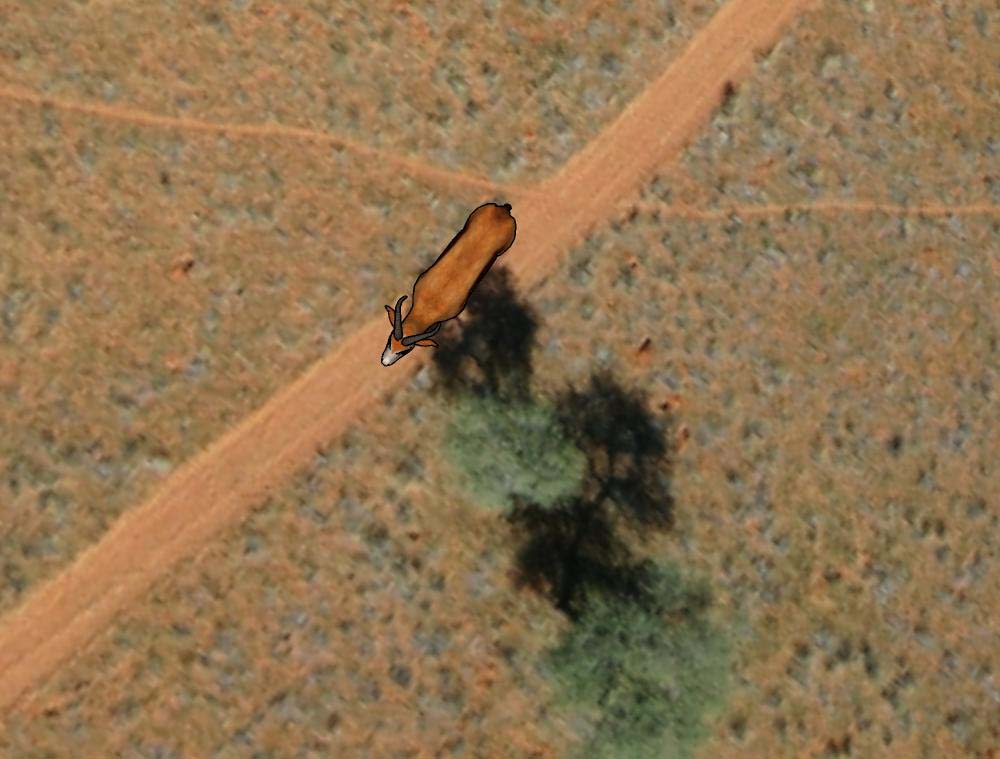springbok: (373, 193, 521, 369)
